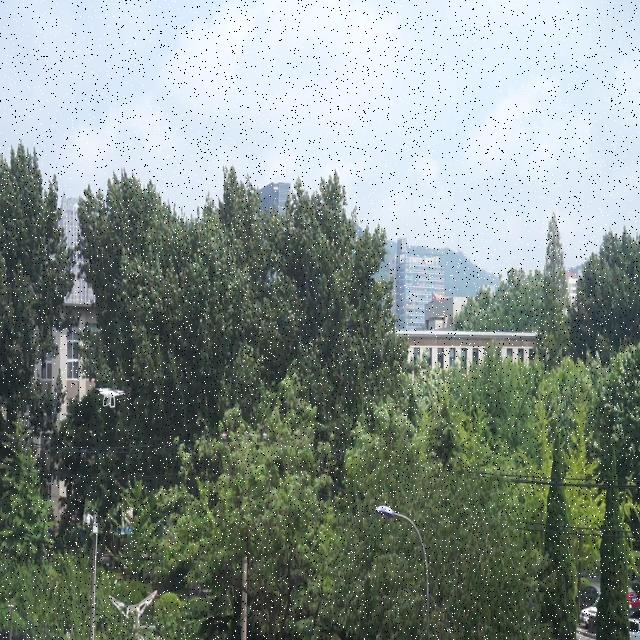UAV: (94, 388, 126, 408)
